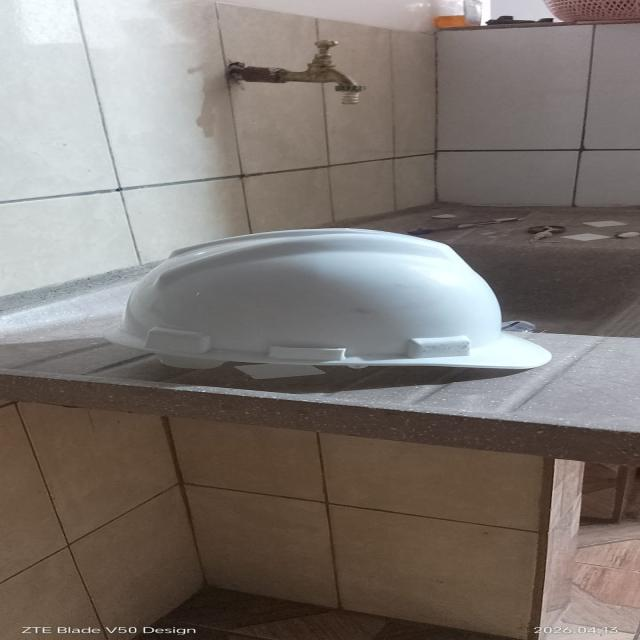casco: (119, 227, 576, 394)
